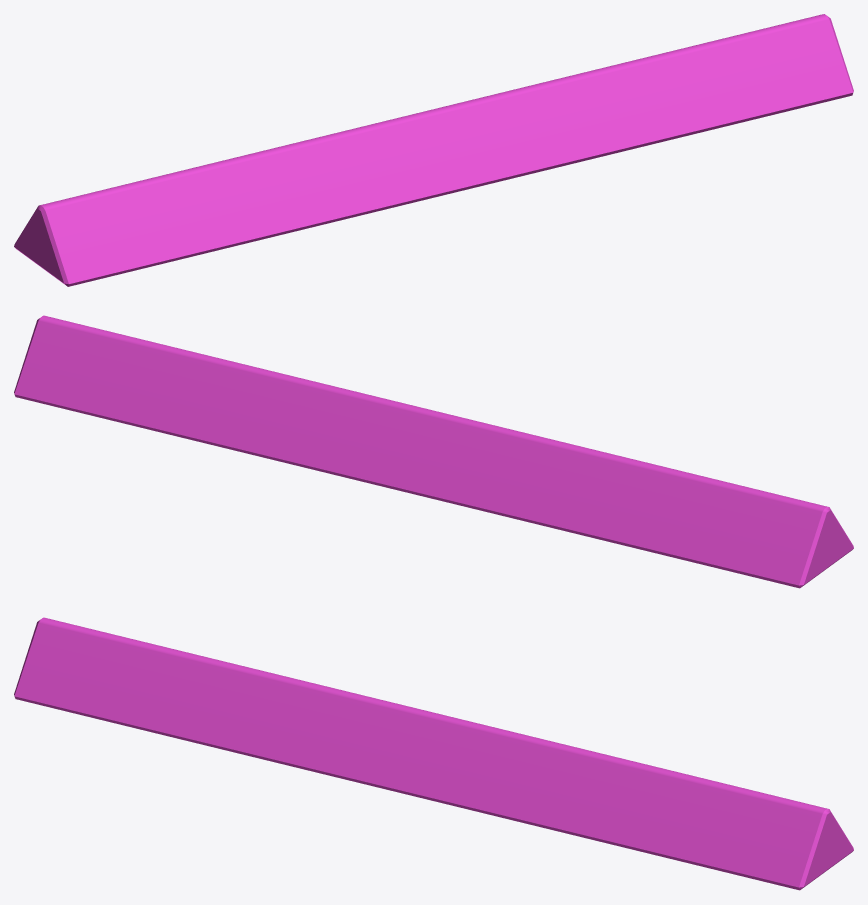
File: barrelStopper.fbx
The picture shows the model from 3 angles, top to bottom: view 1: azimuth 30°, elevation 25°; view 2: azimuth 150°, elevation 25°; view 3: azimuth 330°, elevation 25°; orthographic projection.
Visible parts, largest first — view 1: barrelStopper; view 2: barrelStopper; view 3: barrelStopper.
Part boxes in pixels (<box>): barrelStopper: <box>14,14,853,286</box>; barrelStopper: <box>14,315,853,588</box>; barrelStopper: <box>14,617,853,890</box>.
Bounding box in the file's own units: 80.84 × 6.01 × 9.67.
